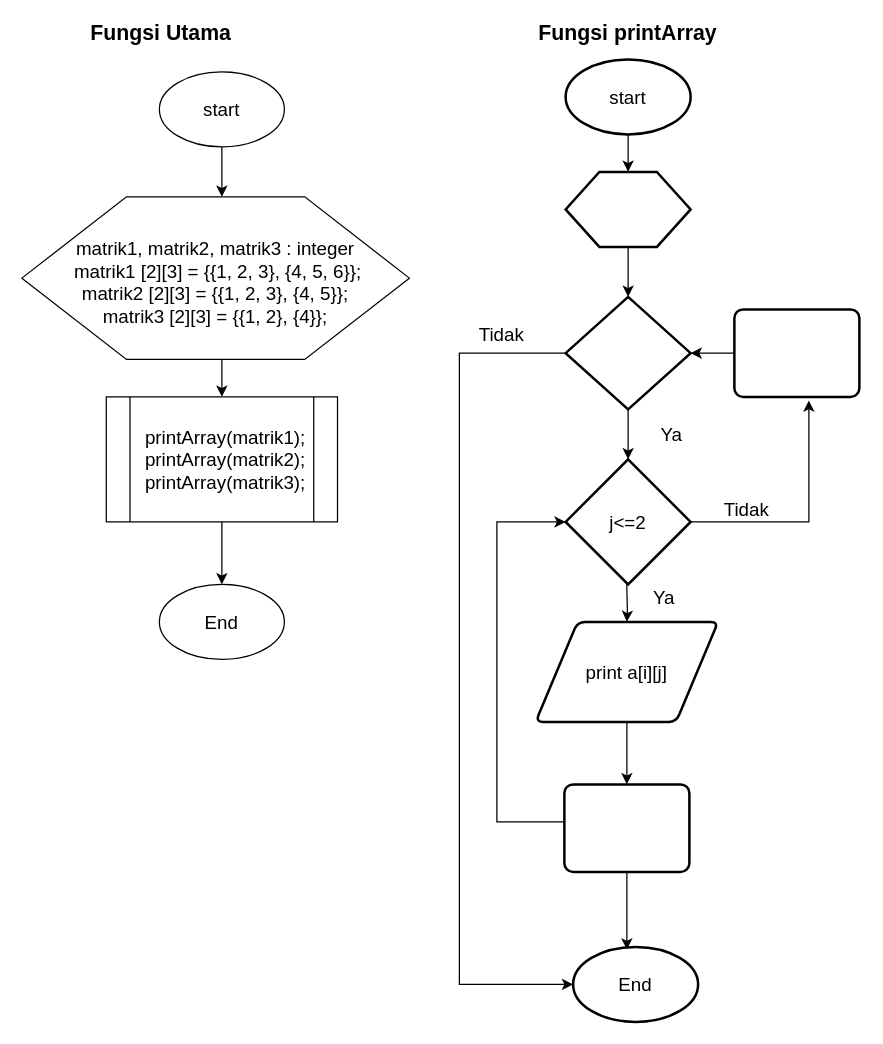
The diagram is 883 pixels wide and 1044 high, and some of its shapes have lost their labels. Here are the shapes that lost their labels. From the top down, the box of each, then its label:
(564, 170, 691, 248): i, j : integer
(564, 295, 691, 410): i <=1
(732, 308, 860, 398): i + 1
(562, 782, 690, 872): j+1
